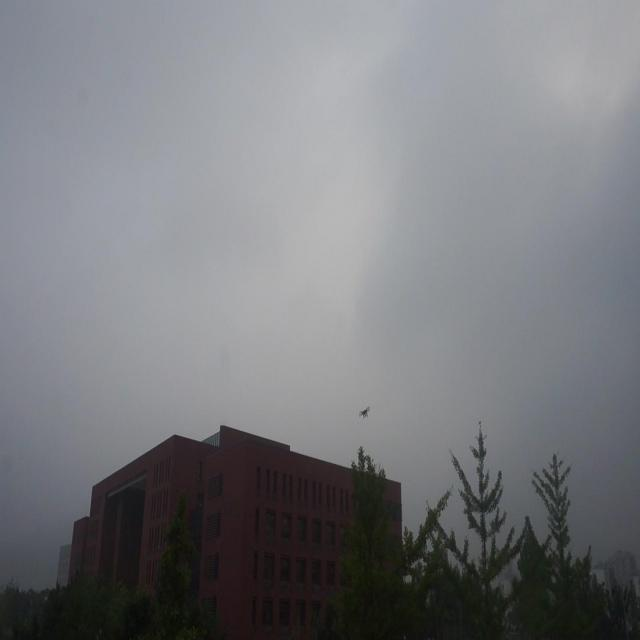UAV: (359, 406, 370, 419)
